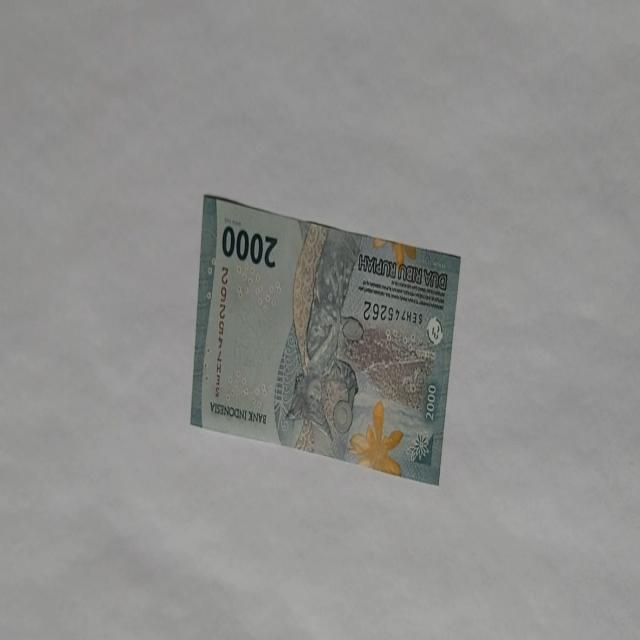dua ribu rupiah: (189, 192, 461, 486), (273, 221, 366, 459)
